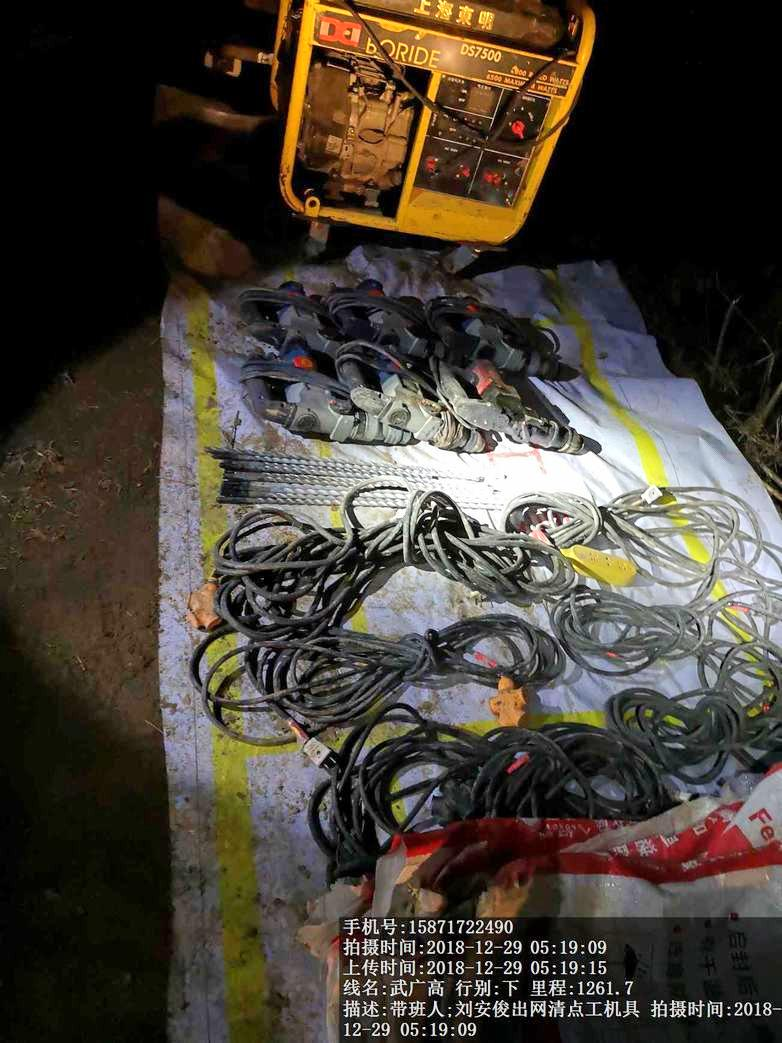DJ: (259, 1, 572, 223)
